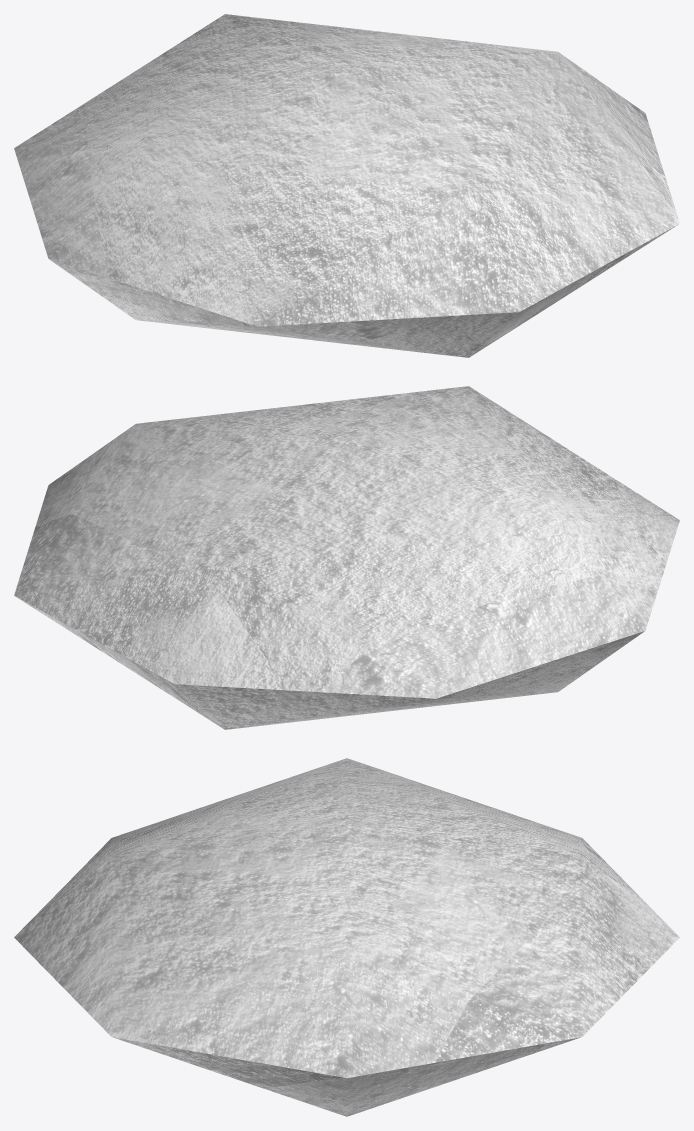
Rendered from SM_白粉末.FBX.
The picture shows the model from 3 angles, top to bottom: view 1: azimuth 30°, elevation 25°; view 2: azimuth 150°, elevation 25°; view 3: azimuth 270°, elevation 25°; orthographic projection. The views are drawn at different scales.
Visible parts, largest first — view 1: SM_Yaofen; view 2: SM_Yaofen; view 3: SM_Yaofen.
Part boxes in pixels (x1,y1,x2,y2): SM_Yaofen: (14,14,679,357); SM_Yaofen: (14,386,679,729); SM_Yaofen: (14,758,679,1116).
Size of the model in its own units: 26 by 9.73 by 26.
